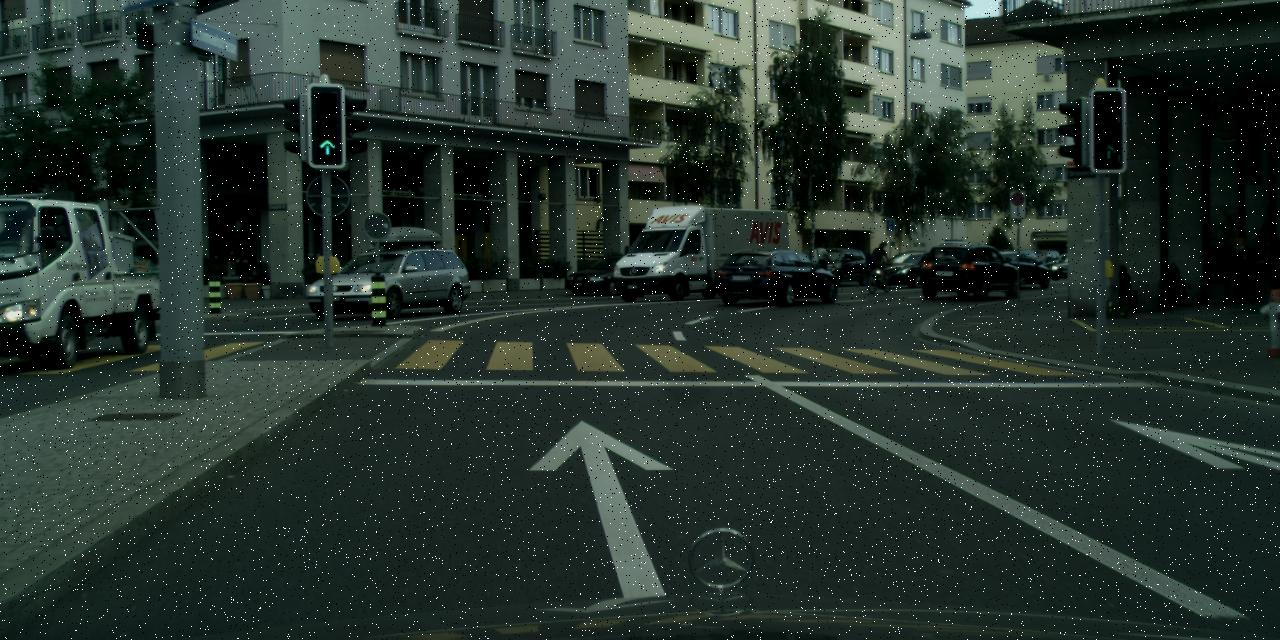ped: (810, 240, 829, 286), (872, 243, 888, 284)
